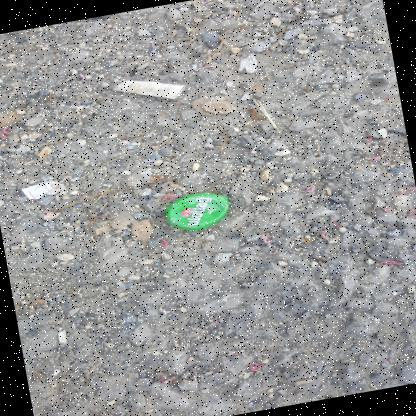Cigarette: (116, 79, 185, 99)
Metal bottle cap: (165, 193, 229, 230)
Other plastic bottle: (300, 182, 315, 194), (249, 362, 265, 371), (380, 260, 403, 265), (162, 192, 178, 199), (195, 64, 210, 71), (398, 188, 415, 194), (261, 234, 272, 243), (320, 230, 329, 240), (333, 219, 345, 226), (158, 377, 169, 384), (3, 126, 13, 133), (0, 132, 8, 140), (269, 247, 278, 254), (381, 207, 393, 212), (370, 155, 379, 161), (364, 136, 372, 142), (162, 240, 168, 246), (409, 210, 416, 215), (170, 377, 174, 384), (382, 96, 391, 99), (383, 360, 389, 363), (44, 210, 50, 213), (234, 350, 238, 354), (215, 321, 218, 324)
Unlabeled litter: (21, 181, 52, 199)
